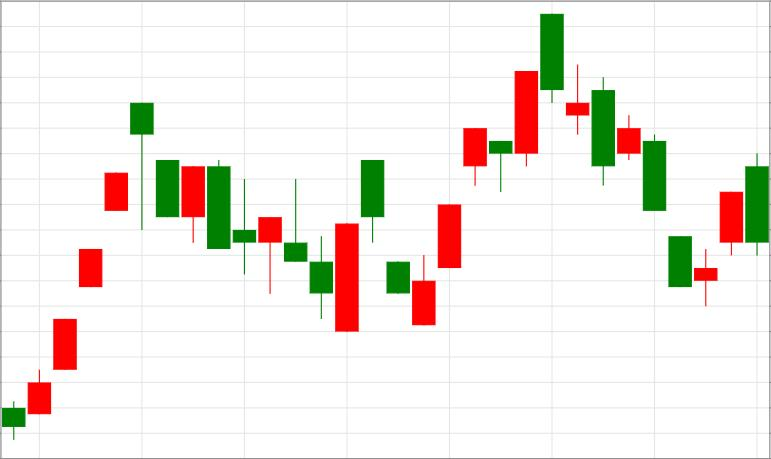bullish_engulfing_rise: (207, 159, 359, 332)
hanging_man_fall: (28, 103, 154, 414)
three_white_soldiers_rise: (361, 128, 487, 325)
